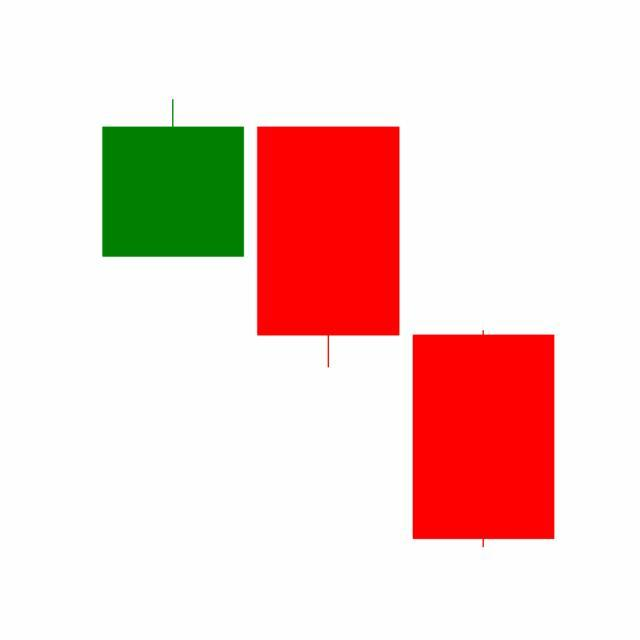Marubozu: (406, 328, 562, 551)
